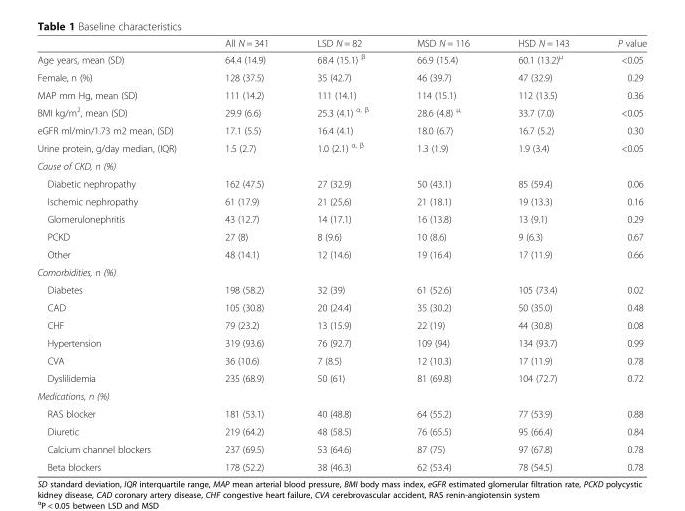table: (36, 37, 646, 472)
table column: (36, 37, 200, 472), (392, 37, 493, 472), (292, 37, 392, 472), (493, 37, 592, 472), (200, 37, 292, 472), (592, 37, 646, 472)
table column header: (36, 37, 646, 49)
table projected row header: (36, 156, 646, 174), (36, 262, 646, 280), (36, 386, 646, 404)
table row: (36, 49, 646, 68), (36, 102, 646, 121), (36, 137, 646, 156), (36, 156, 646, 174), (36, 174, 646, 192), (36, 209, 646, 227), (36, 227, 646, 245), (36, 262, 646, 280), (36, 280, 646, 298), (36, 298, 646, 316), (36, 333, 646, 351), (36, 351, 646, 369), (36, 386, 646, 404), (36, 404, 646, 422), (36, 439, 646, 457), (36, 68, 646, 85), (36, 85, 646, 102), (36, 192, 646, 209), (36, 245, 646, 262), (36, 316, 646, 333), (36, 369, 646, 386), (36, 422, 646, 439), (36, 121, 646, 137), (36, 457, 646, 472), (36, 37, 646, 49)
